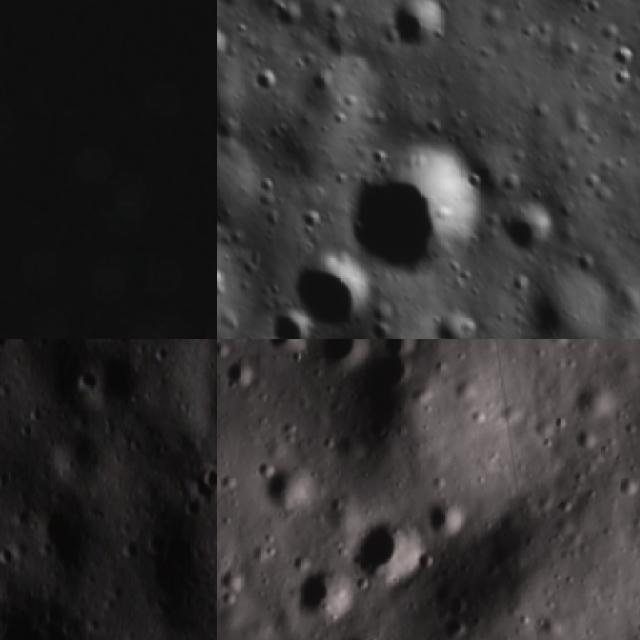crater: (335, 130, 501, 288), (290, 246, 382, 338), (347, 502, 429, 600), (511, 266, 611, 339), (217, 122, 278, 236), (288, 559, 364, 630), (30, 506, 99, 575), (217, 45, 261, 150), (385, 0, 459, 61), (497, 196, 564, 259), (0, 597, 86, 640), (419, 492, 476, 540), (261, 456, 309, 512), (305, 339, 369, 378), (424, 304, 490, 339), (220, 350, 262, 392), (274, 305, 320, 339), (604, 34, 640, 72), (295, 204, 326, 238), (74, 366, 104, 398), (217, 20, 235, 65), (194, 459, 217, 492), (0, 339, 20, 357)
